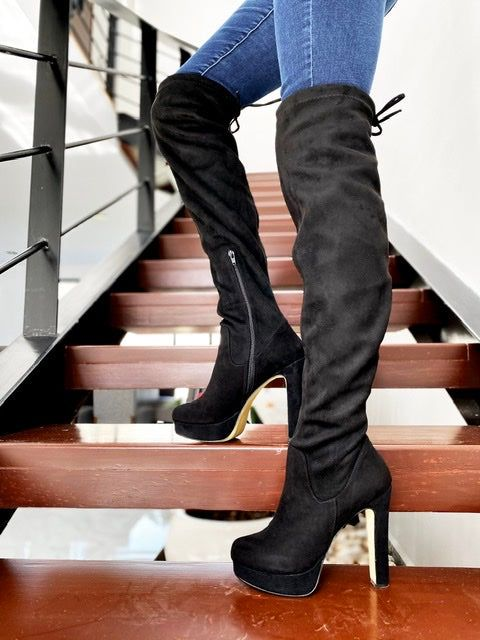gamuza: (151, 73, 391, 574)
